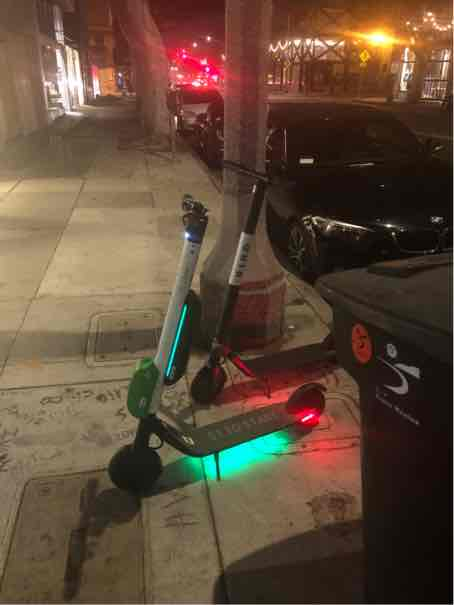scooter: (98, 182, 337, 503)
